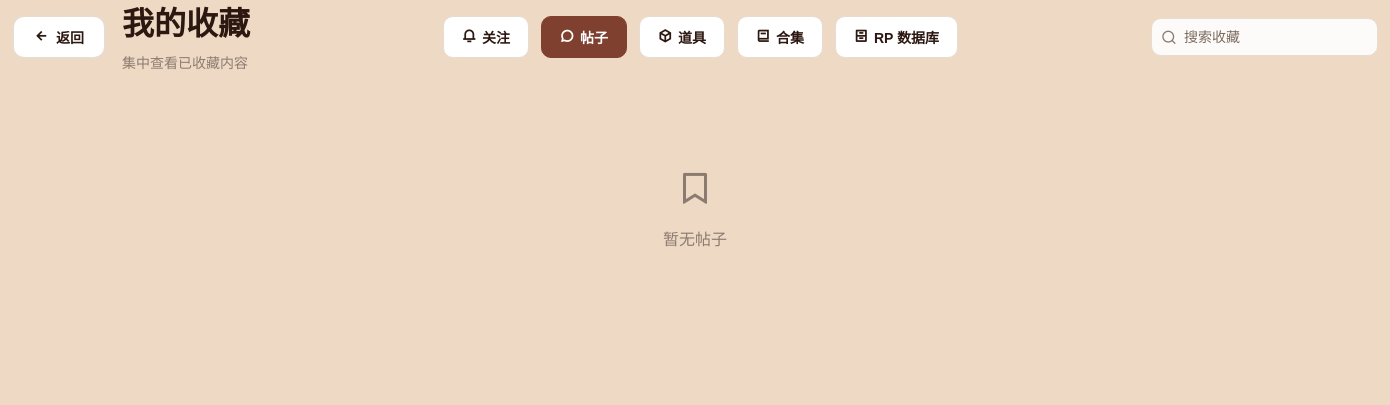
it: Favorites category tabs › loads RPDB favorites from the dedicated tab
Click the button with test id "favorites-tab-rpdb" at (897, 36), box [835,16,958,58]
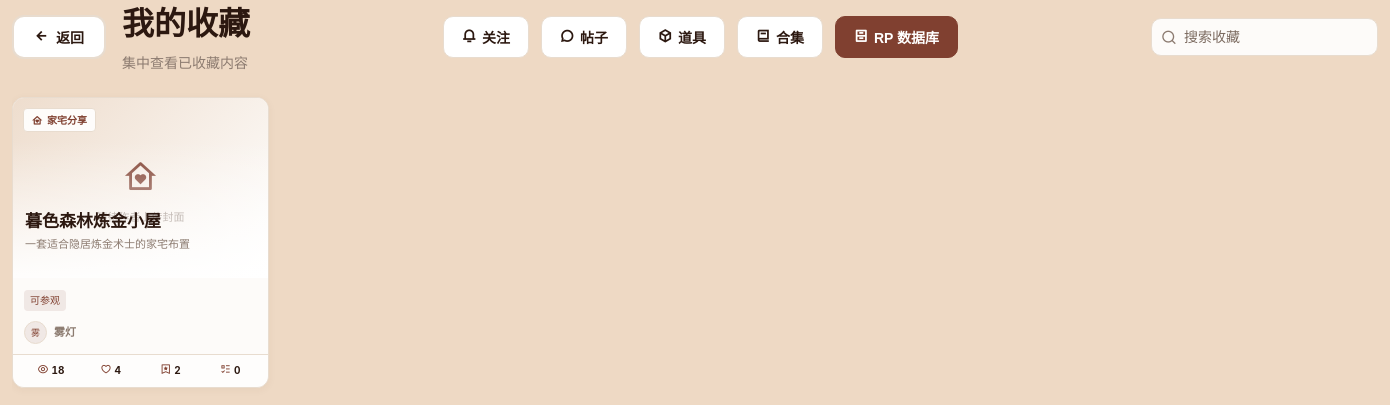
Expected: the text "暮色森林炼金小屋" is shown, [25,212,161,231]
Click the button with test id "favorites-tab-following" at (486, 36), box [443,16,529,58]
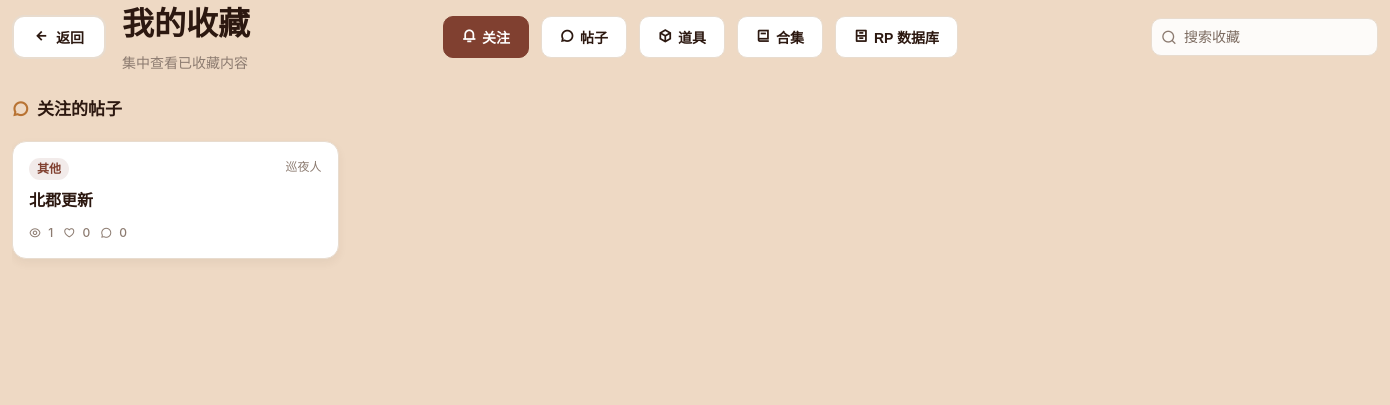
Expected: the text "北郡更新" is shown, [29,190,93,210]
